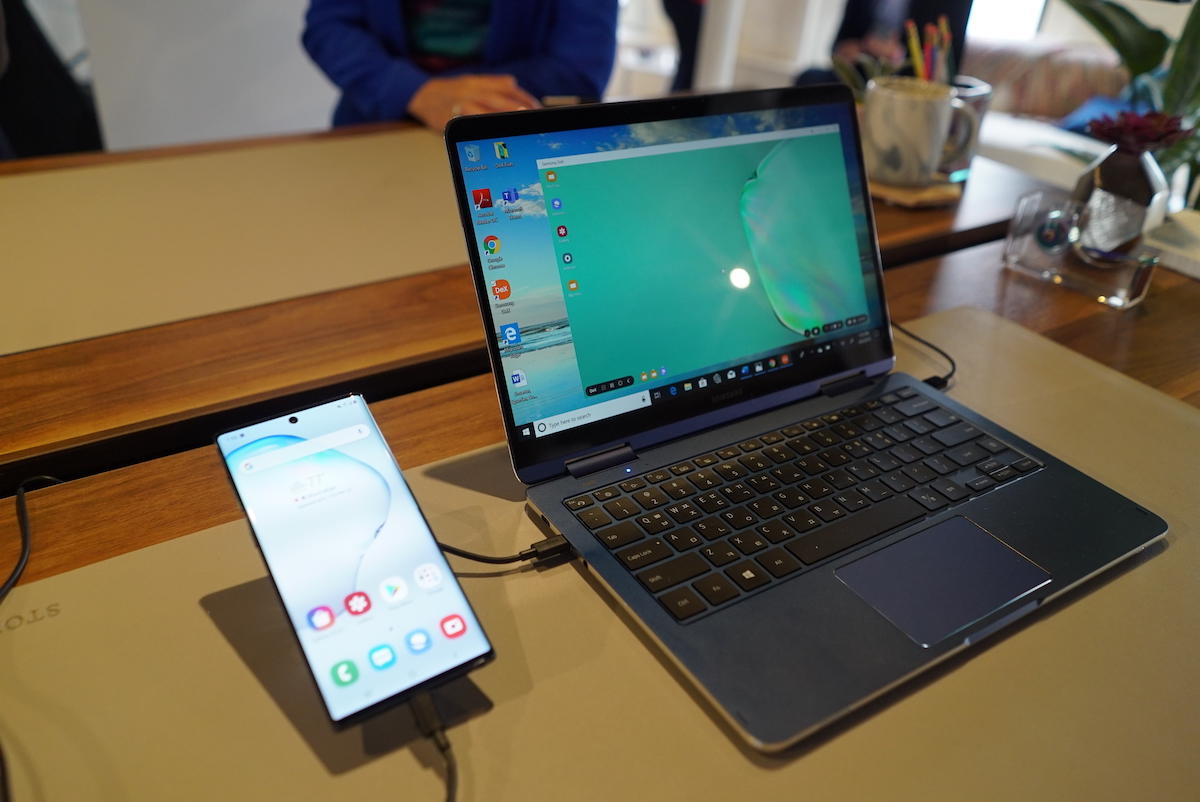Cell Phone: (210, 396, 498, 734)
